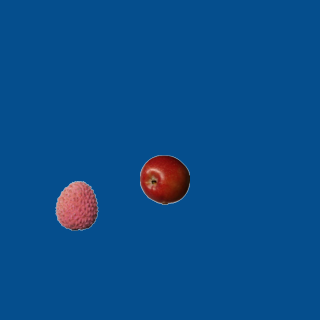Apple Braeburn: (139, 154, 189, 204)
Lychee: (51, 180, 101, 230)
